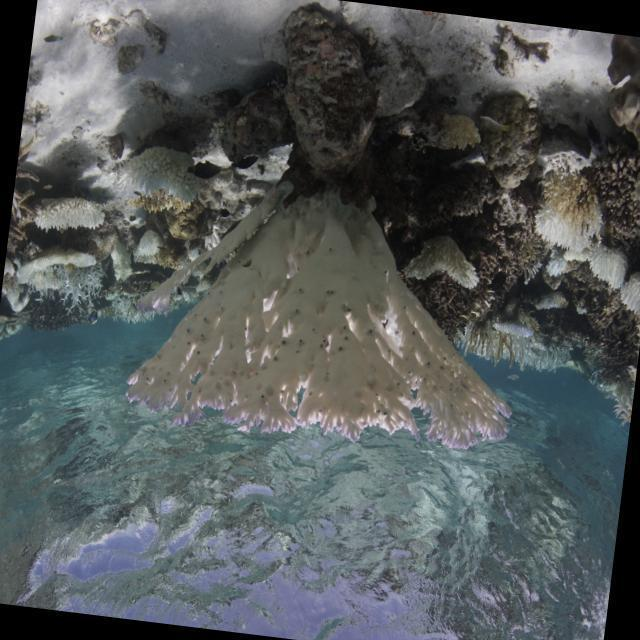Dead Coral: (577, 304, 640, 391), (473, 22, 540, 93), (6, 150, 45, 258)
